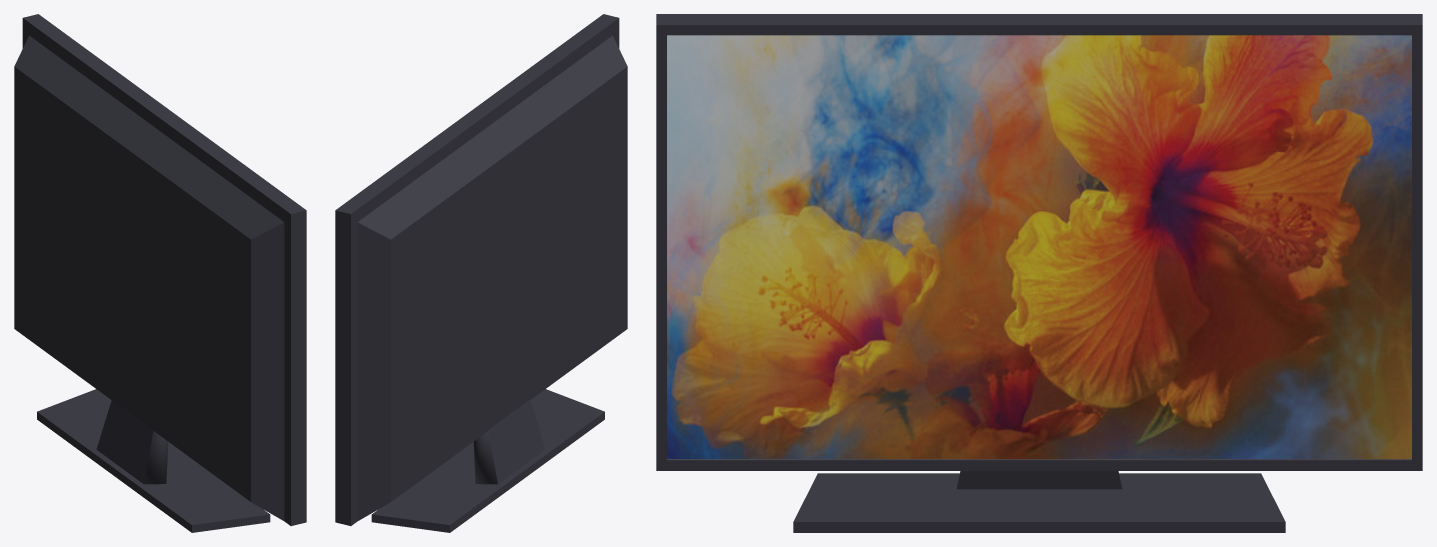
3 renders of one model, left to right at view 1: azimuth 30°, elevation 25°; view 2: azimuth 150°, elevation 25°; view 3: azimuth 270°, elevation 25°, orthographic. The views are drawn at different scales.
Parts seen in each view (by area): view 1: TV_16; view 2: TV_16; view 3: TV_16.
Boxes of the visible parts, bbox=[...] form: TV_16: bbox=[14, 14, 306, 532]; TV_16: bbox=[335, 14, 627, 532]; TV_16: bbox=[656, 14, 1422, 532].
Size of the model in its own units: 0.057 by 0.3796 by 0.2732.
Materials: 2 (2 with a texture image).
